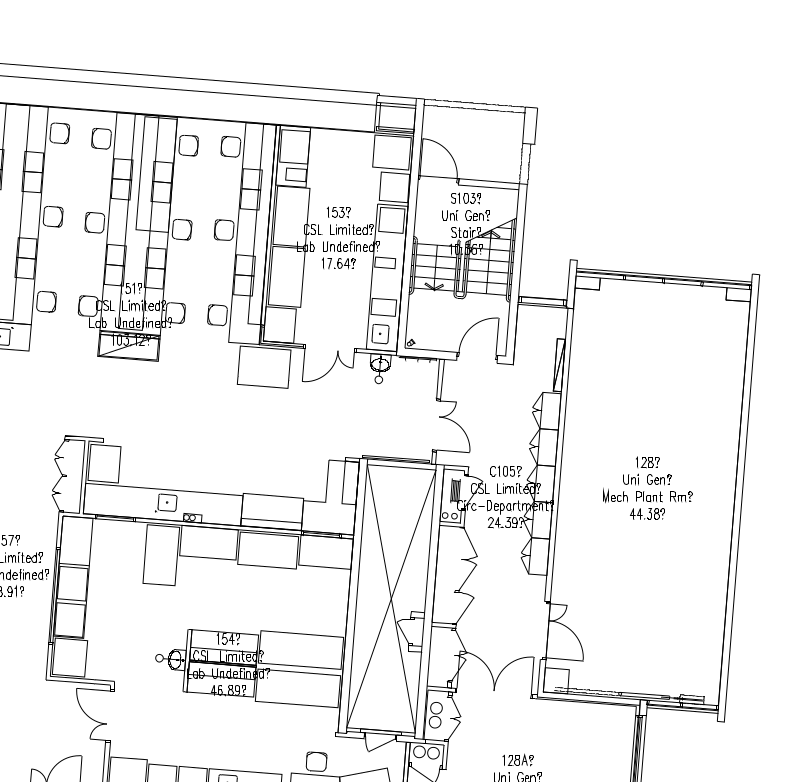door: (456, 644, 536, 701), (435, 389, 476, 462), (544, 590, 585, 663), (72, 687, 119, 746), (298, 342, 357, 387), (454, 311, 501, 364), (417, 135, 464, 188), (24, 750, 87, 782)
